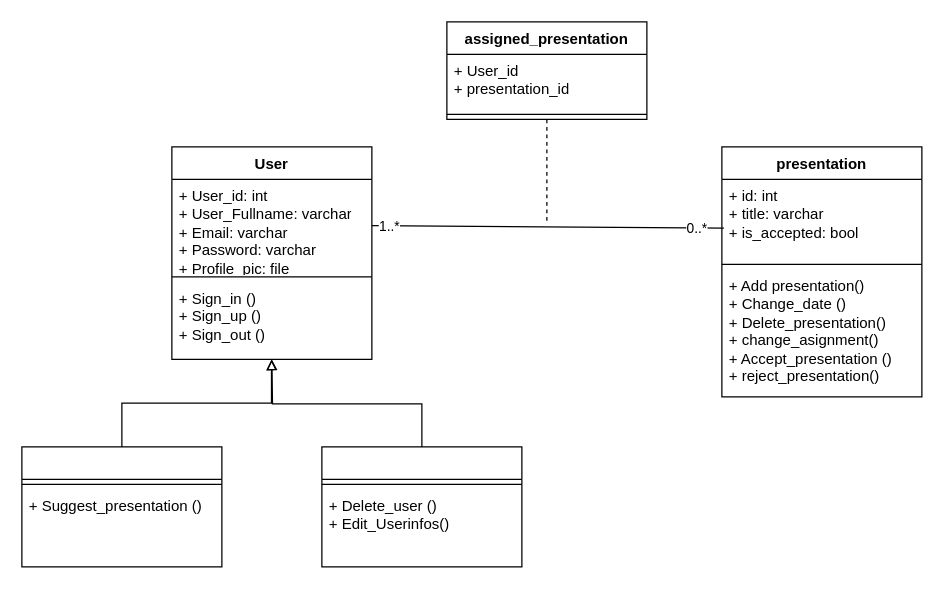
The diagram is 944 pixels wide and 593 high, and some of its shapes have lost their labels. Each missing label, with the box of its shape:
Instructor: (321, 446, 522, 567)
Student: (21, 446, 222, 567)
